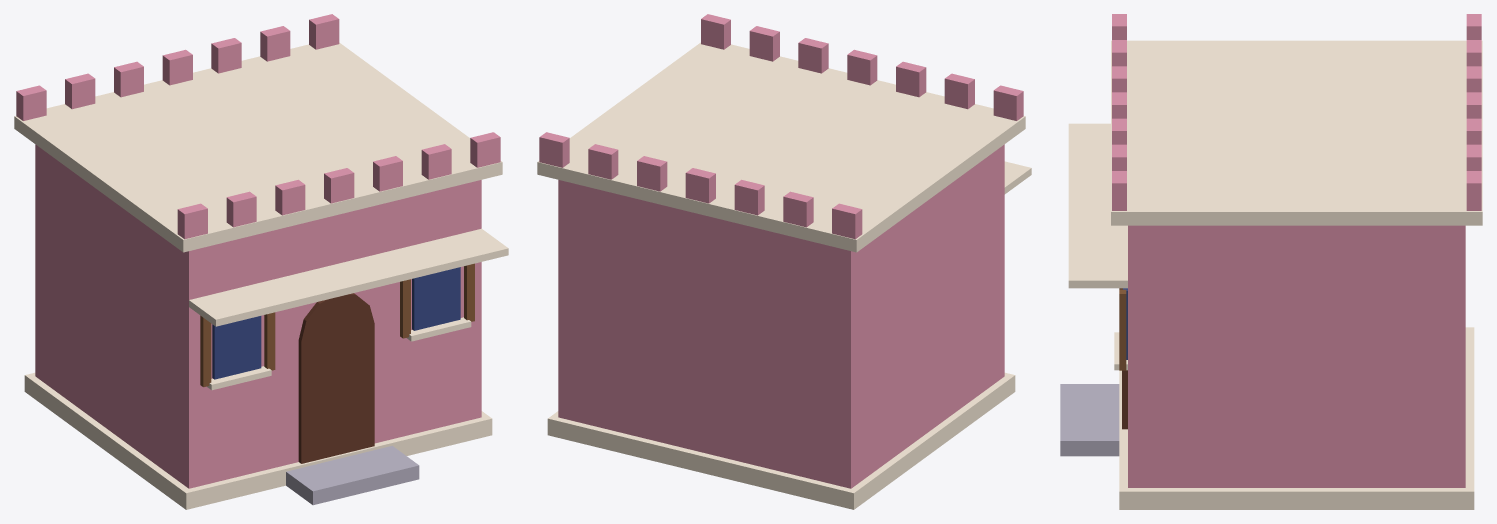
The model's file is house_c.glb.
3 renders of one model, left to right at view 1: azimuth 30°, elevation 25°; view 2: azimuth 150°, elevation 25°; view 3: azimuth 270°, elevation 25°, orthographic. The views are drawn at different scales.
Parts seen in each view (by area): view 1: house_c; view 2: house_c; view 3: house_c.
Part boxes in pixels (left/top/right/bottom): house_c: left=14, top=14, right=508, bottom=509; house_c: left=537, top=14, right=1031, bottom=509; house_c: left=1060, top=14, right=1482, bottom=509.
Size of the model in its own units: 4.8 by 4.3 by 5.
